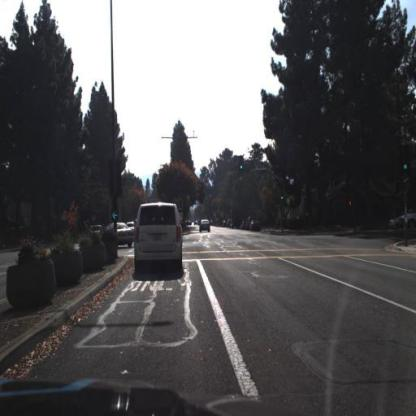car: (132, 201, 184, 275), (115, 217, 135, 251), (199, 215, 212, 236), (200, 218, 213, 236)
trafficLight-Green: (238, 153, 247, 174), (240, 156, 245, 173), (281, 188, 286, 202)
trafficLight-GreenLeft: (112, 200, 121, 225)
